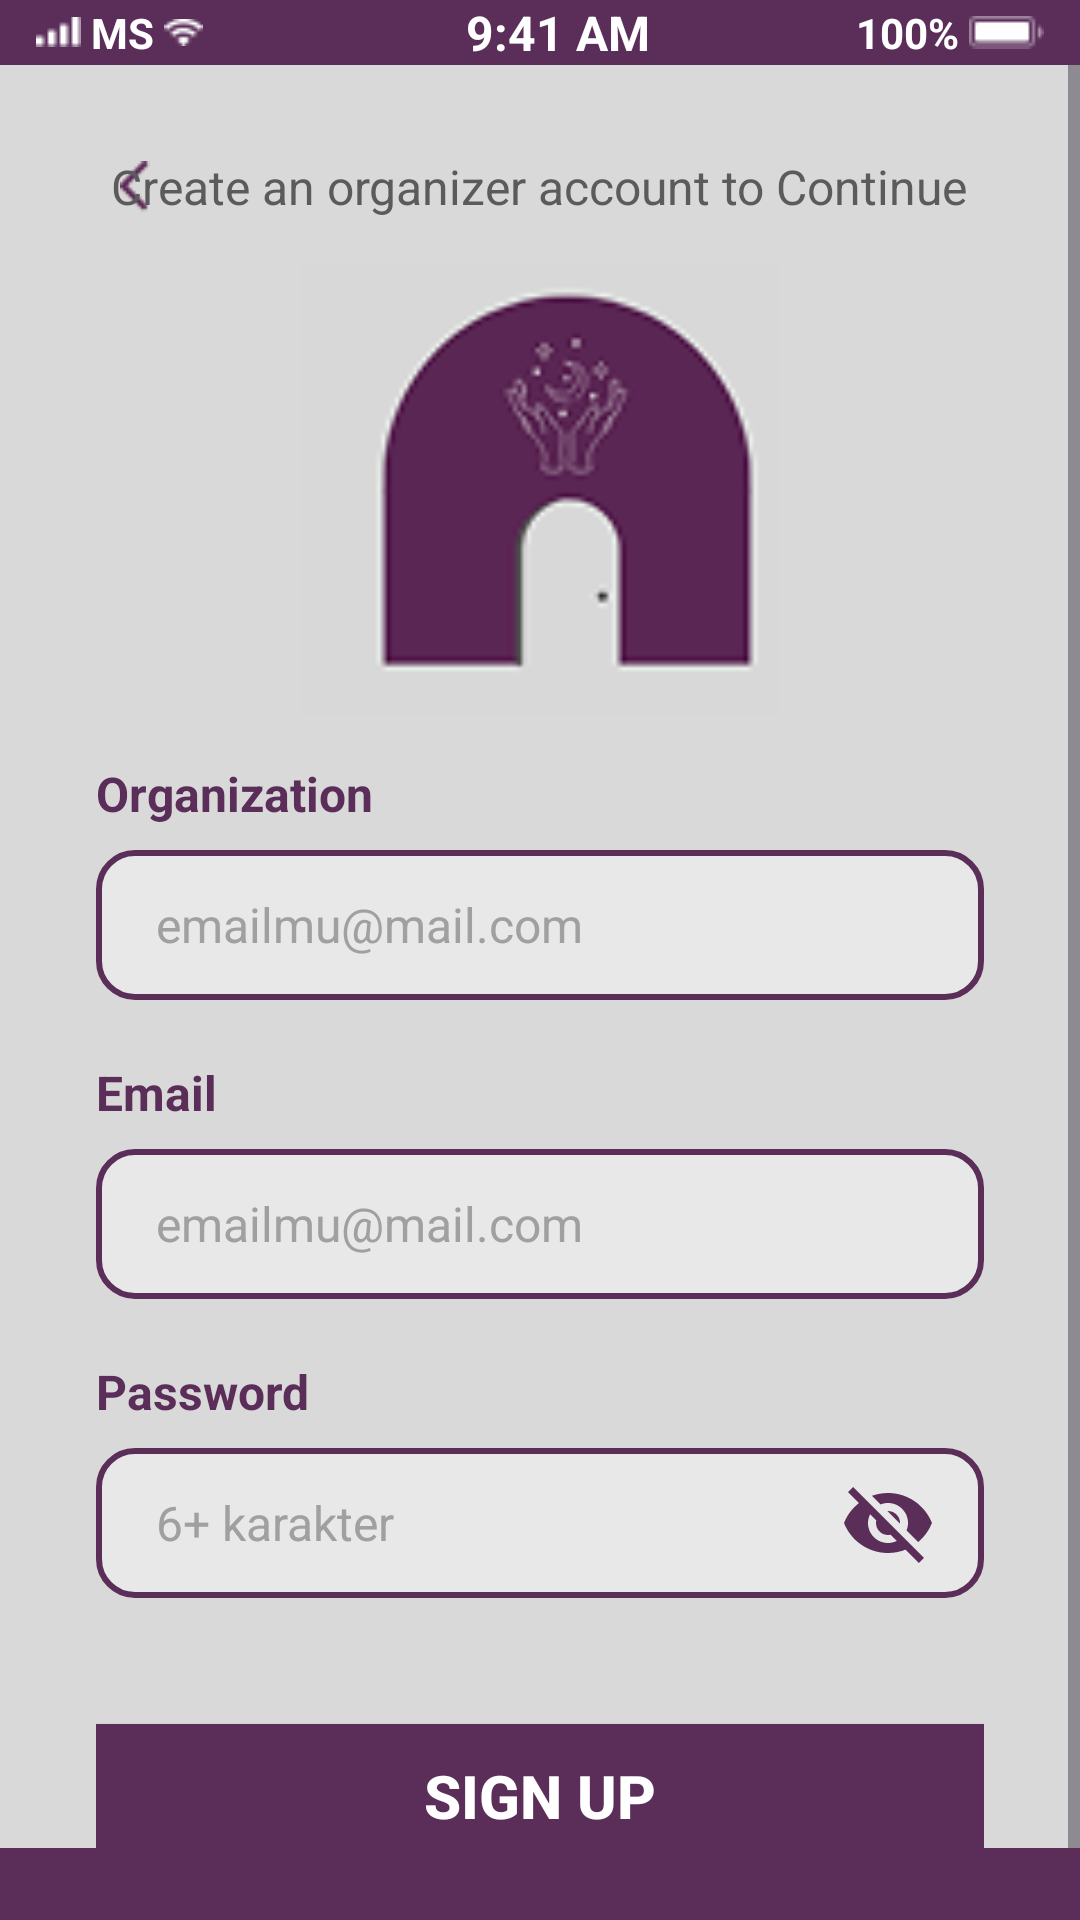

Screen size 1080x1920. Icon name, then its center in pixels as [x,y]:
battery: [1006,32]
chevronleft: [136,185]
mobilesignal: [58,32]
Toggle Password Visibility: [888,1525]
wifi: [183,32]
